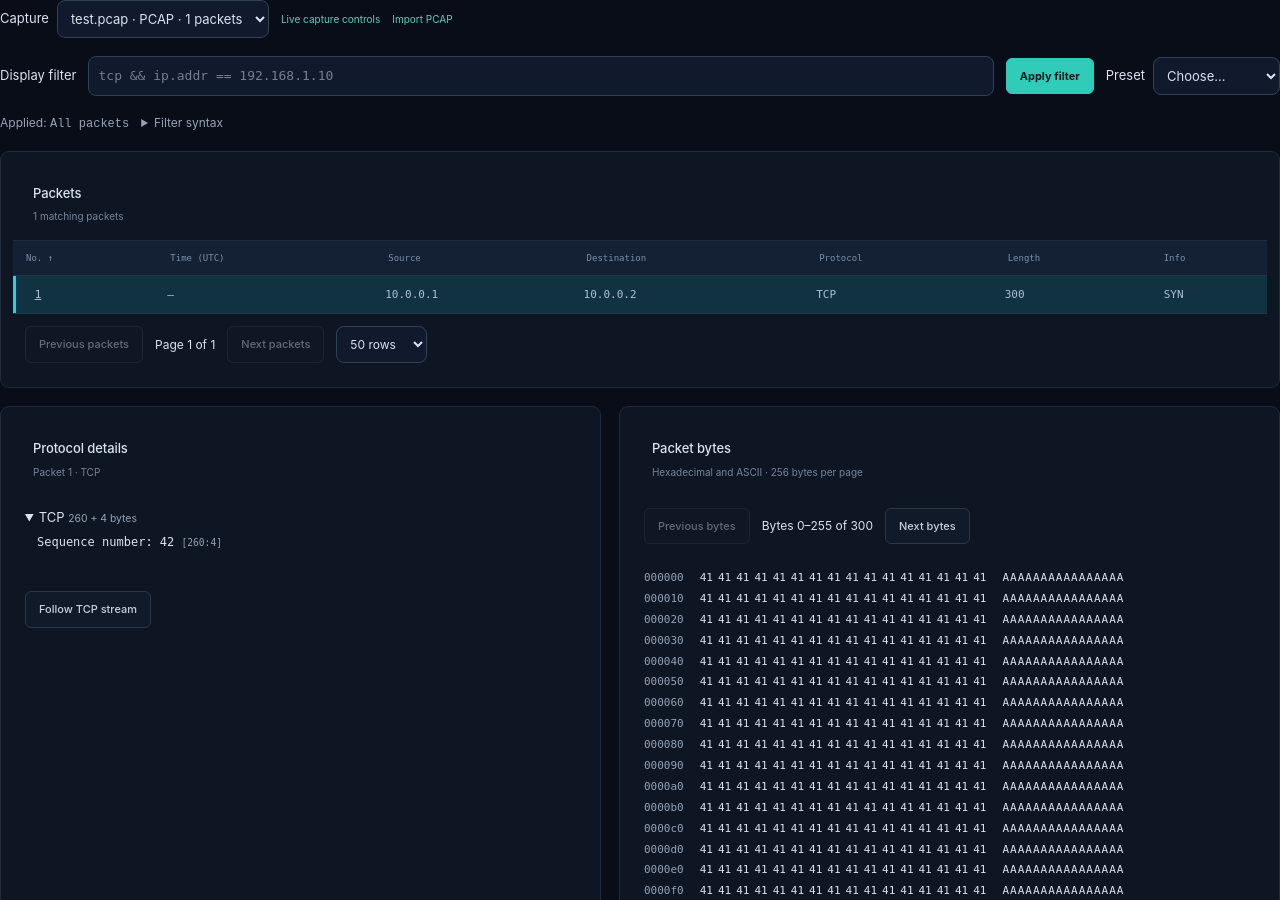
it: loads URL capture and packet, expands fields and highlights exact paged bytes
The width and height of the screenshot is (1280, 900).
Click the button "Sequence number: 42 [260:4]" at (91, 542), box [25,527,576,557]
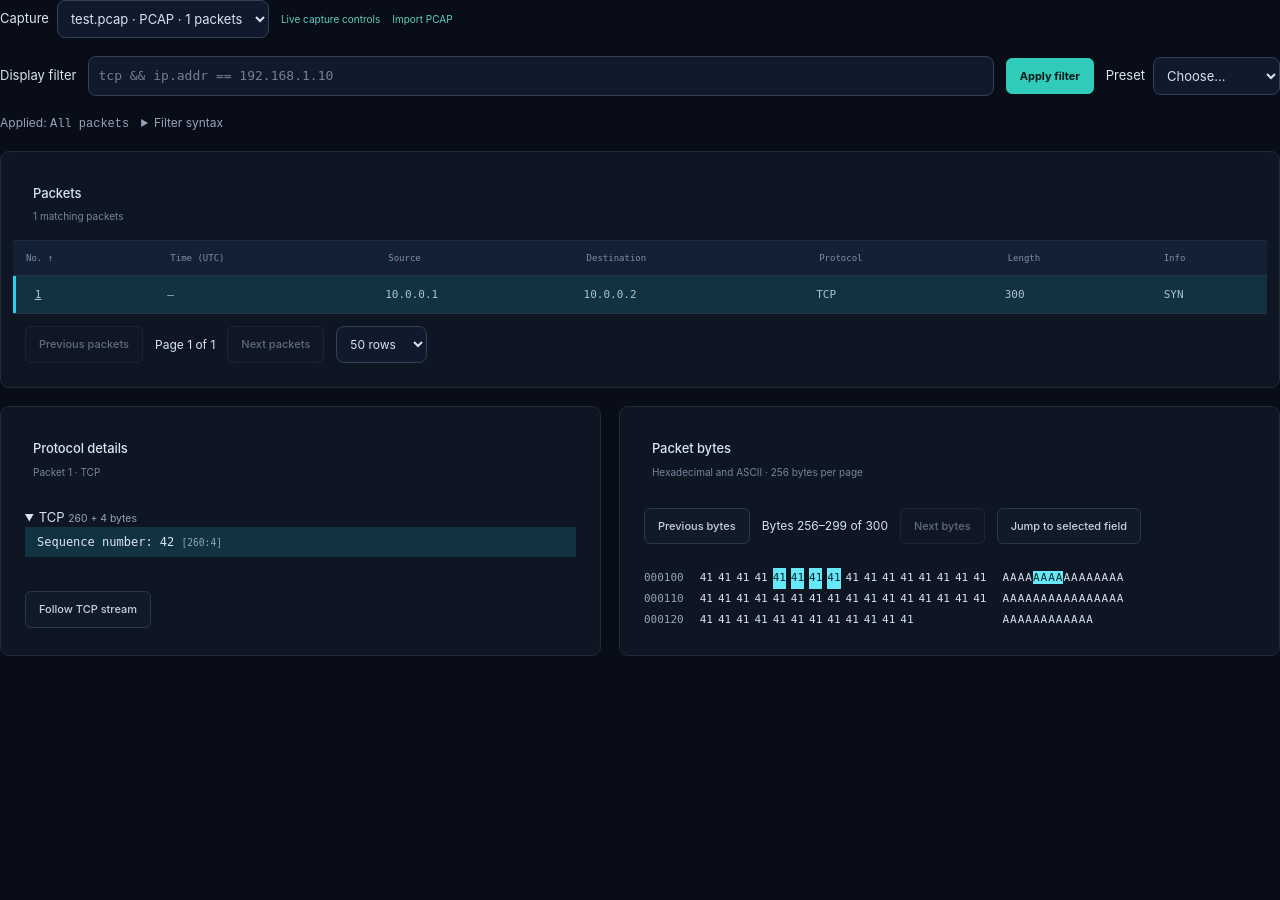
expect the text "Bytes 256–299 of 300" is shown: met, box [762,517,888,535]
